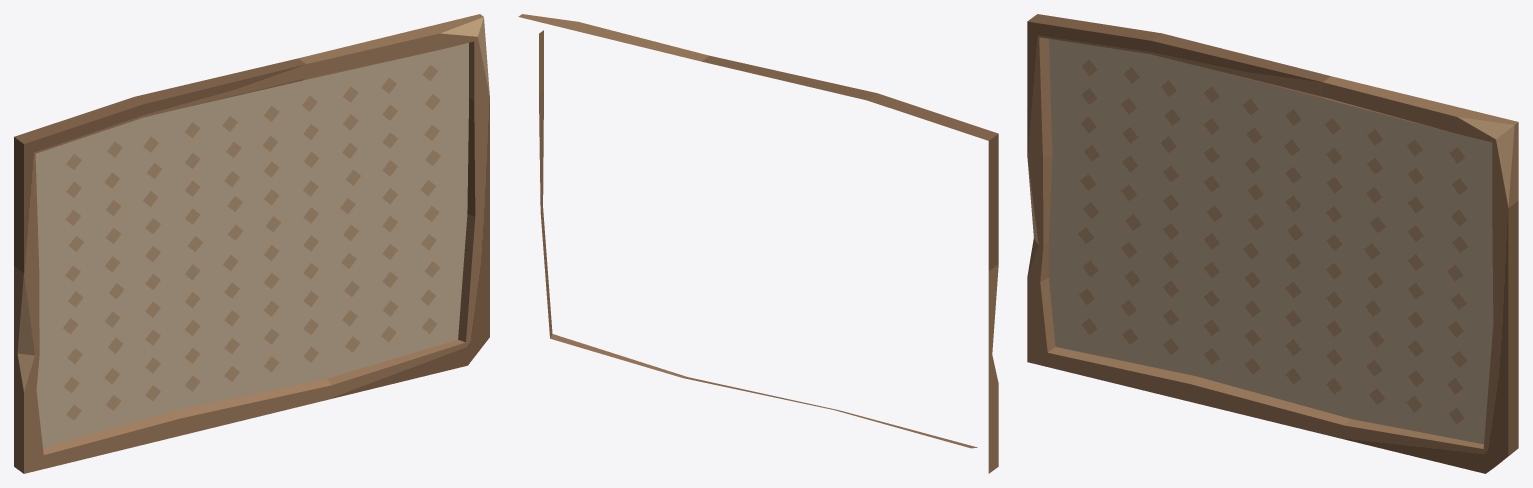
Rendered from SM_Stand.gltf.
The picture shows the model from 3 angles, left to right: view 1: azimuth 30°, elevation 25°; view 2: azimuth 150°, elevation 25°; view 3: azimuth 330°, elevation 25°; orthographic projection. The views are drawn at different scales.
Parts seen in each view (by area): view 1: SM_Stand; view 2: SM_Stand; view 3: SM_Stand.
Boxes of the visible parts, x1,y1,x2,y2 form: SM_Stand: [14, 14, 489, 473]; SM_Stand: [518, 14, 998, 473]; SM_Stand: [1027, 14, 1518, 473].
Bounding box in the file's own units: 1.34 × 0.9369 × 0.0497.
Materials: 1 (1 with a texture image).
